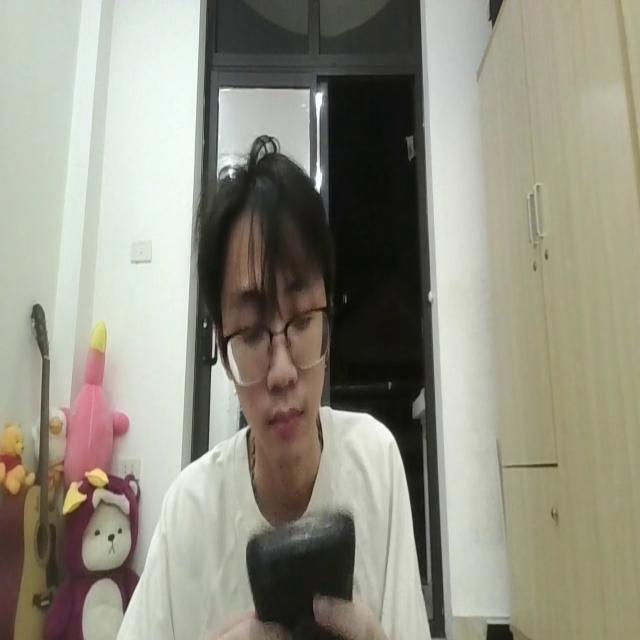phone: (242, 506, 359, 640)
student: (100, 141, 428, 640)
